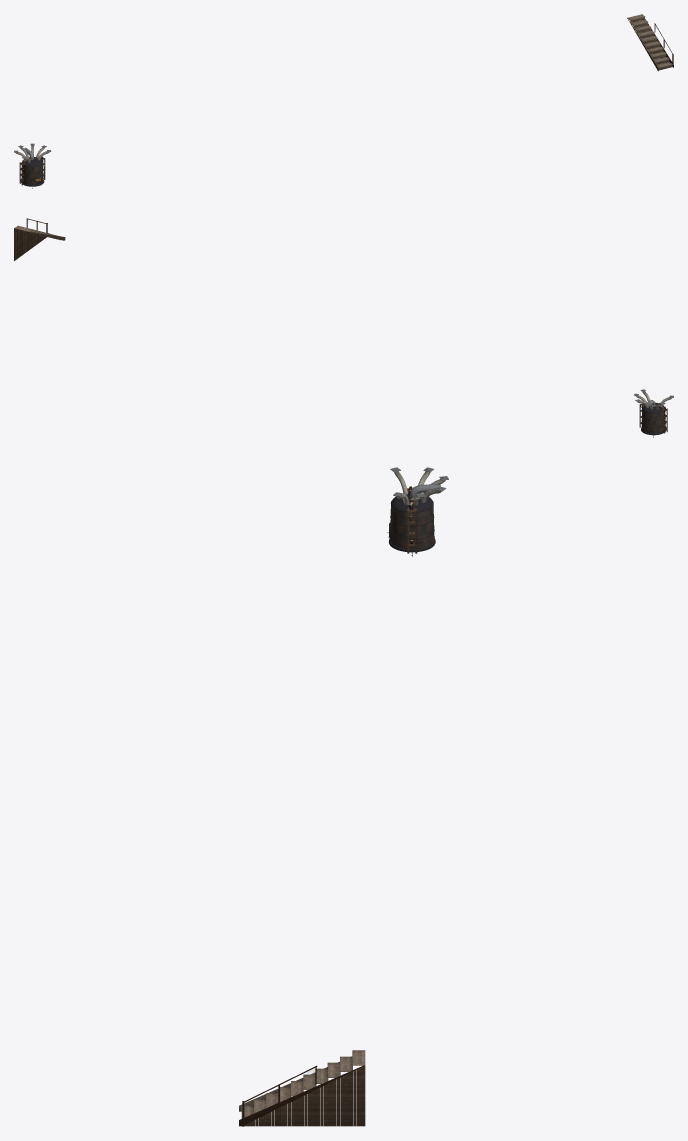
Rendered from props_basement.glb.
The picture shows the model from 3 angles, top to bottom: view 1: azimuth 30°, elevation 25°; view 2: azimuth 150°, elevation 25°; view 3: azimuth 270°, elevation 25°; orthographic projection. The views are drawn at different scales.
Visible parts, largest first — view 1: BasementStairs, Furnace; view 2: Furnace, BasementStairs; view 3: BasementStairs, Furnace.
Boxes of the visible parts, x1,y1,x2,y2 form: BasementStairs: [627, 14, 673, 71]; Furnace: [14, 143, 51, 186]; Furnace: [633, 389, 673, 435]; BasementStairs: [14, 218, 65, 260]; BasementStairs: [239, 1050, 365, 1126]; Furnace: [387, 467, 448, 552].
Size of the model in its own units: 63.33 by 3.85 by 9.4.
28 materials, 22 textured.
